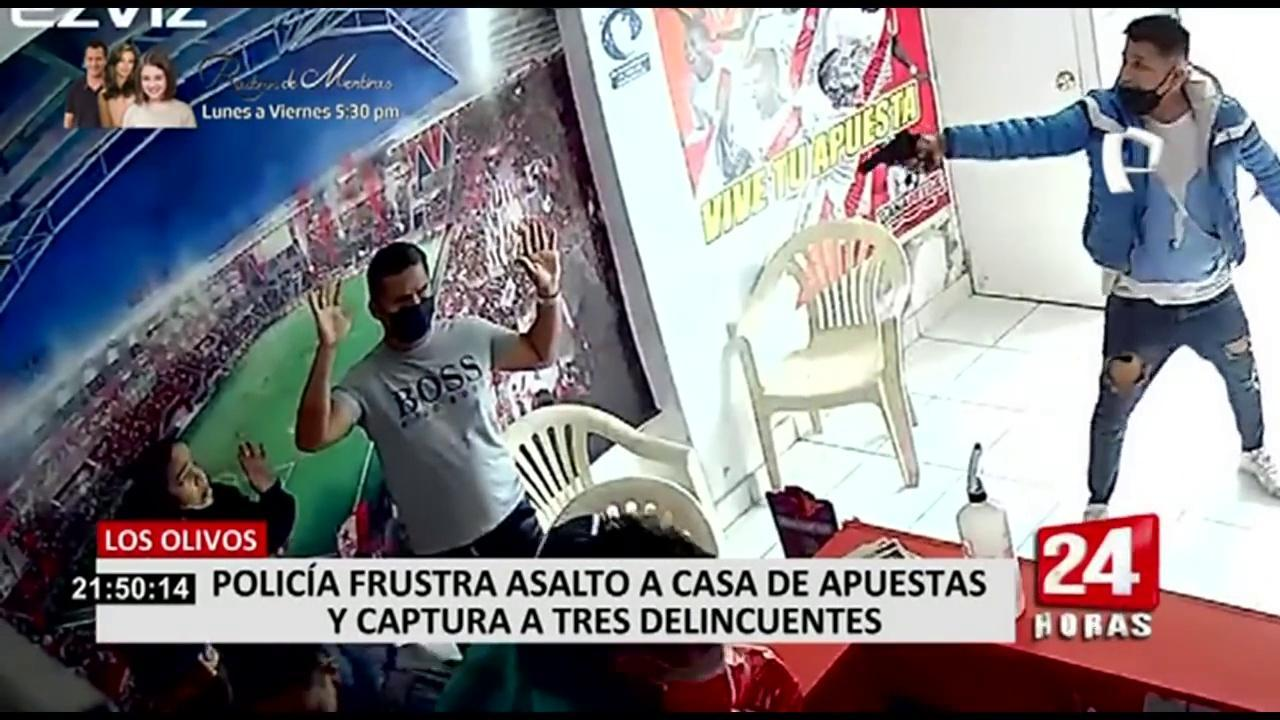Guns: (849, 113, 952, 194)
